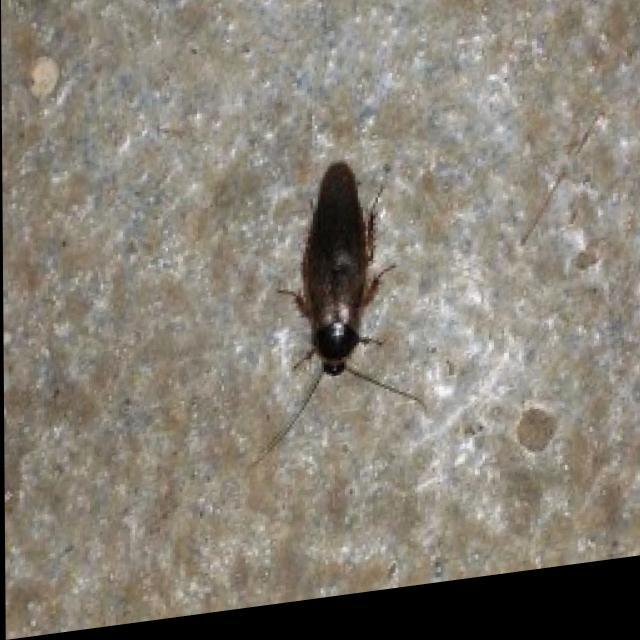cockroach: (243, 155, 430, 473)
